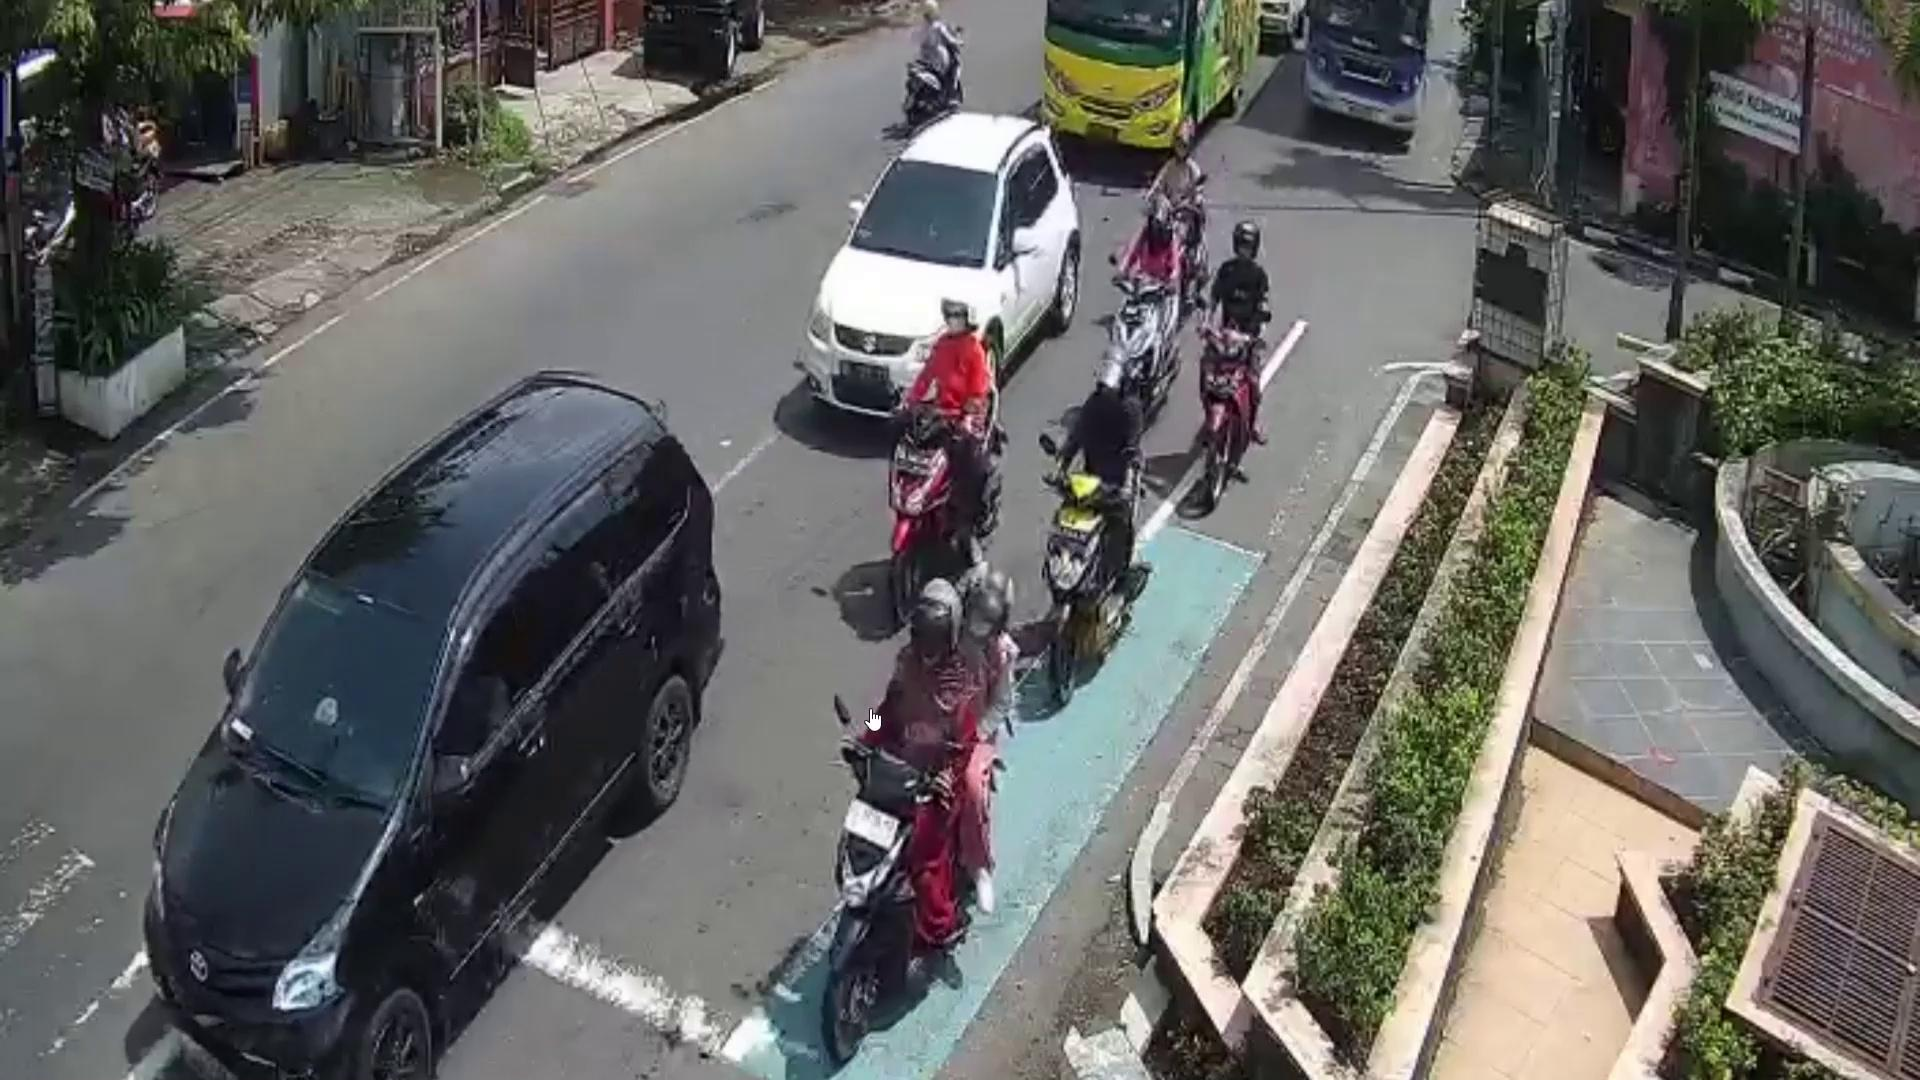bus: (1040, 0, 1253, 150), (1302, 0, 1424, 144)
car: (138, 356, 719, 1080), (800, 115, 1084, 419)
motorbike: (818, 740, 940, 1069), (884, 377, 1004, 617), (1044, 467, 1143, 696), (1109, 272, 1179, 417), (1197, 330, 1253, 506), (899, 25, 971, 127)
